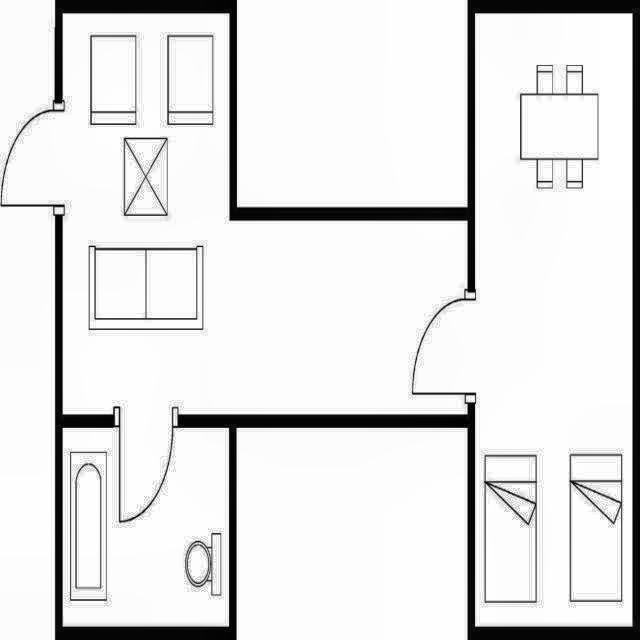room: (63, 13, 468, 415), (475, 13, 633, 627), (63, 428, 229, 627)
